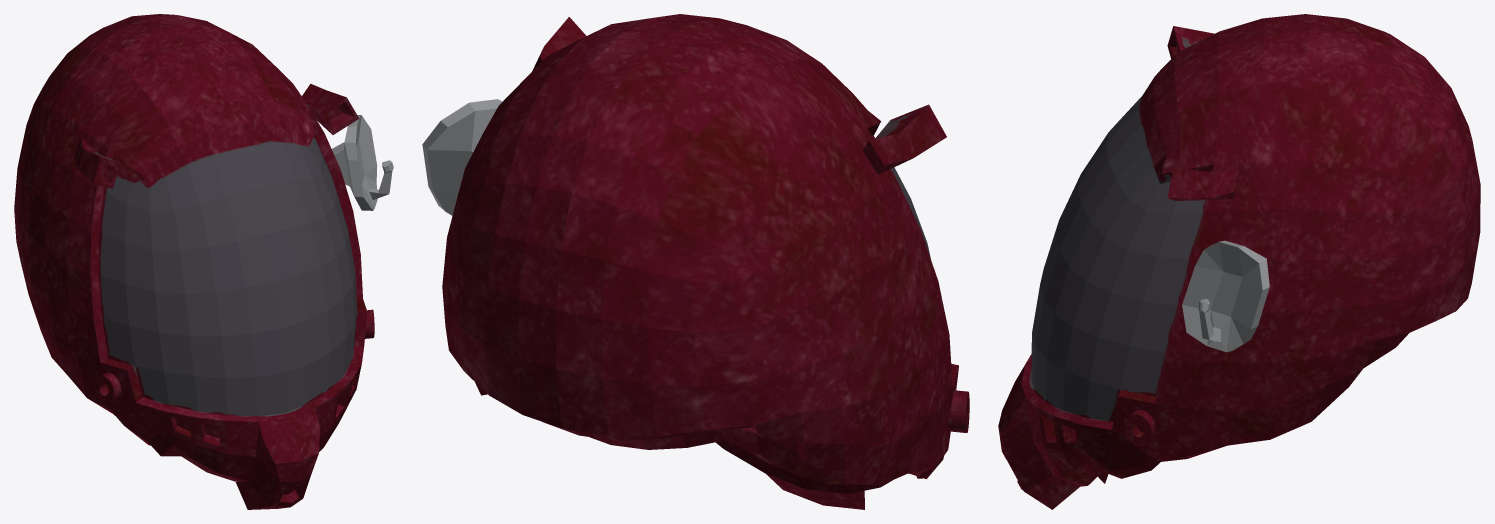
Rendered from Sensory_helmet.fbx.
3 renders of one model, left to right at view 1: azimuth 30°, elevation 25°; view 2: azimuth 150°, elevation 25°; view 3: azimuth 270°, elevation 25°, orthographic. The views are drawn at different scales.
Visible parts, largest first — view 1: Helemt; view 2: Helemt; view 3: Helemt.
Boxes of the visible parts, x1,y1,x2,y2 form: Helemt: (14, 14, 393, 509); Helemt: (422, 14, 969, 509); Helemt: (998, 14, 1480, 509).
Size of the model in its own units: 75.08 by 87.34 by 81.09.
